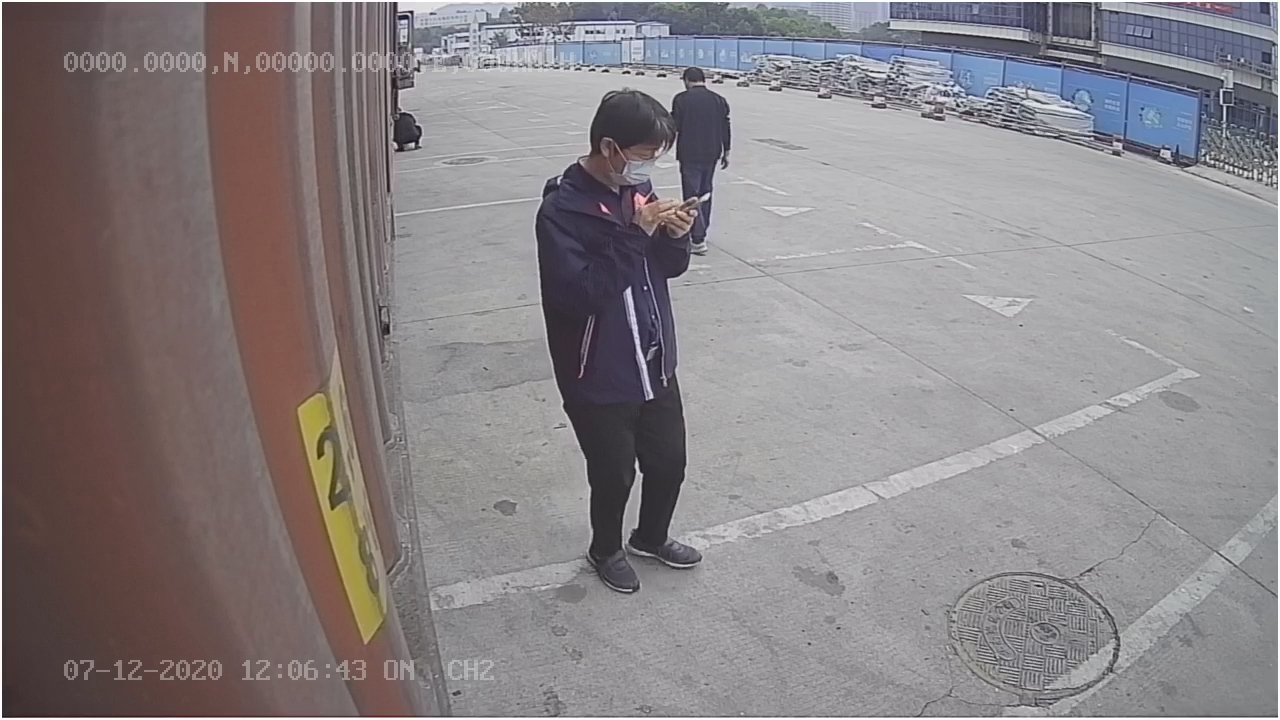person: (527, 93, 704, 606)
